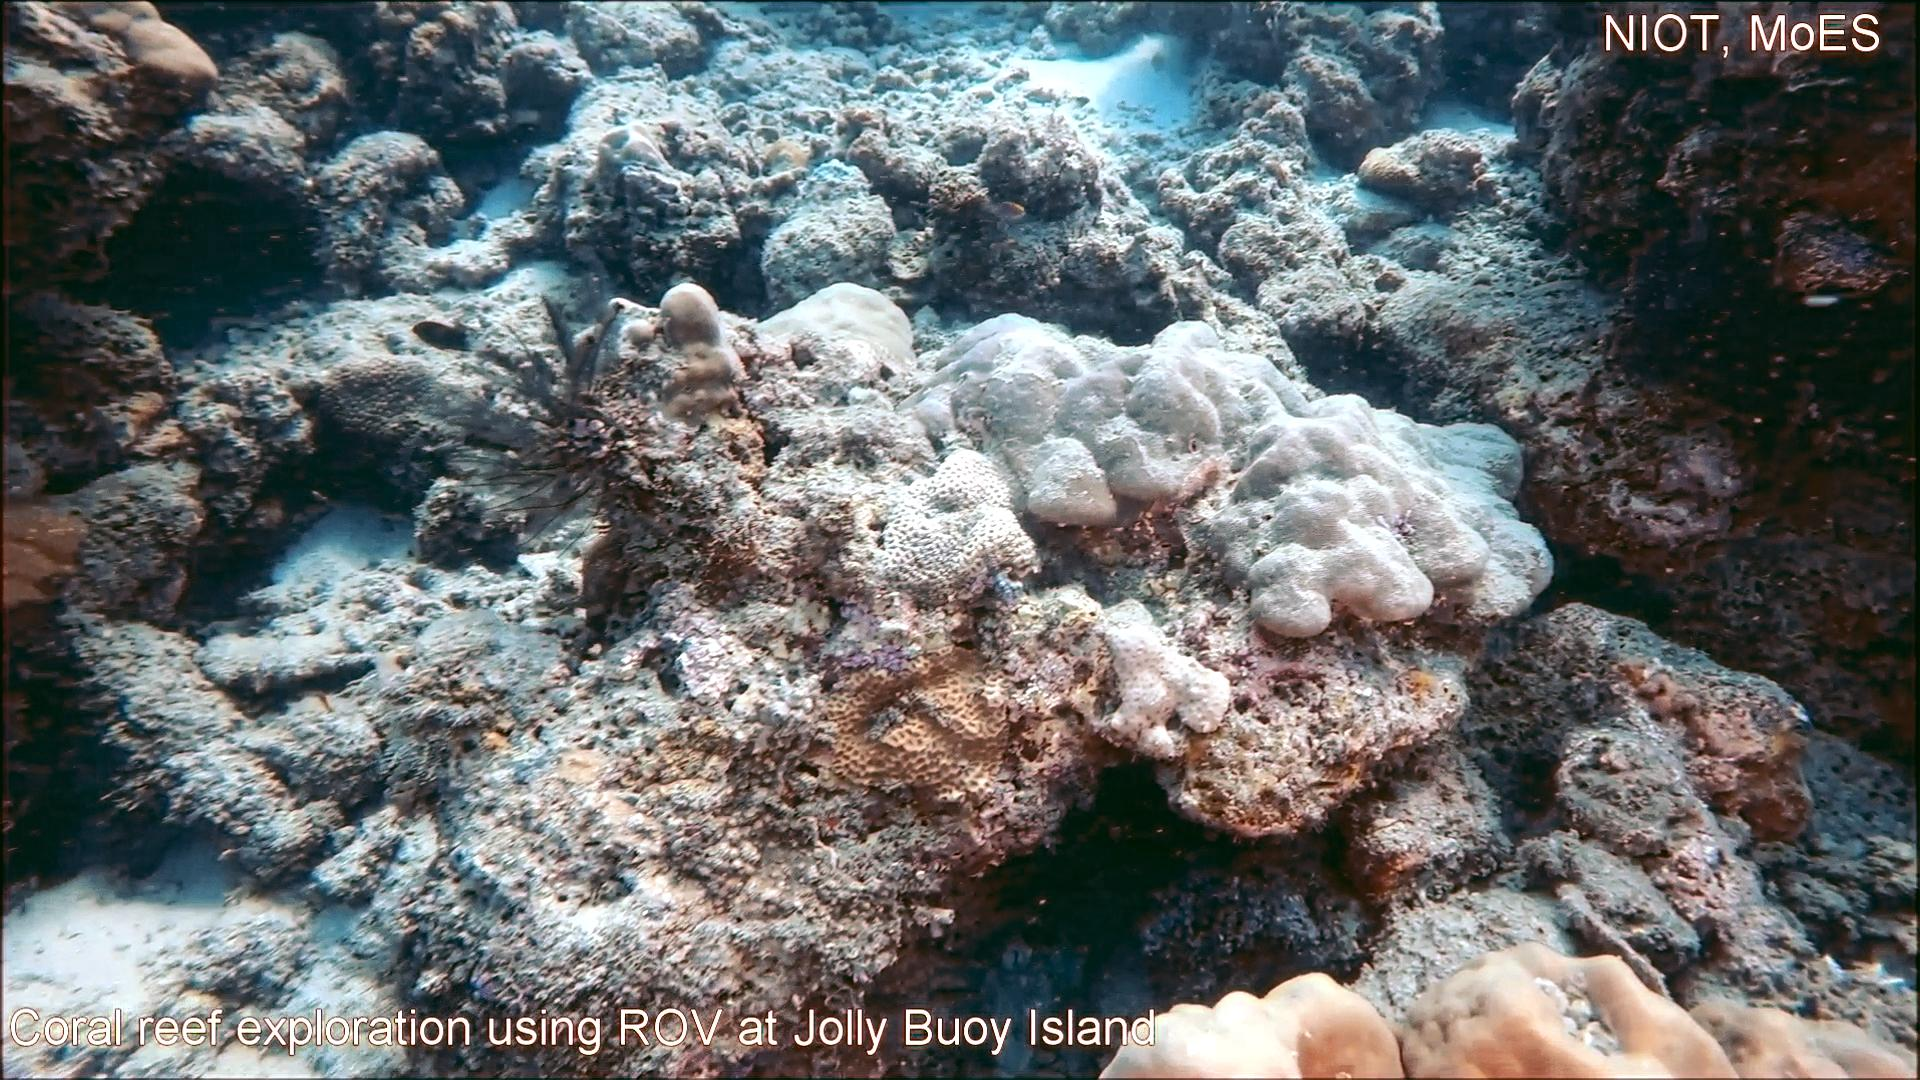Favites-Favites vasta: (824, 641, 1019, 806)
Feather star-Crinoid star: (411, 232, 633, 574)
Goniastrea-Goniastrea pectinata: (872, 444, 1047, 612)
Porites-Porites pukoensis: (1120, 314, 1559, 642)
Turbinaria-Turbinaria stellulata: (310, 348, 434, 464)
